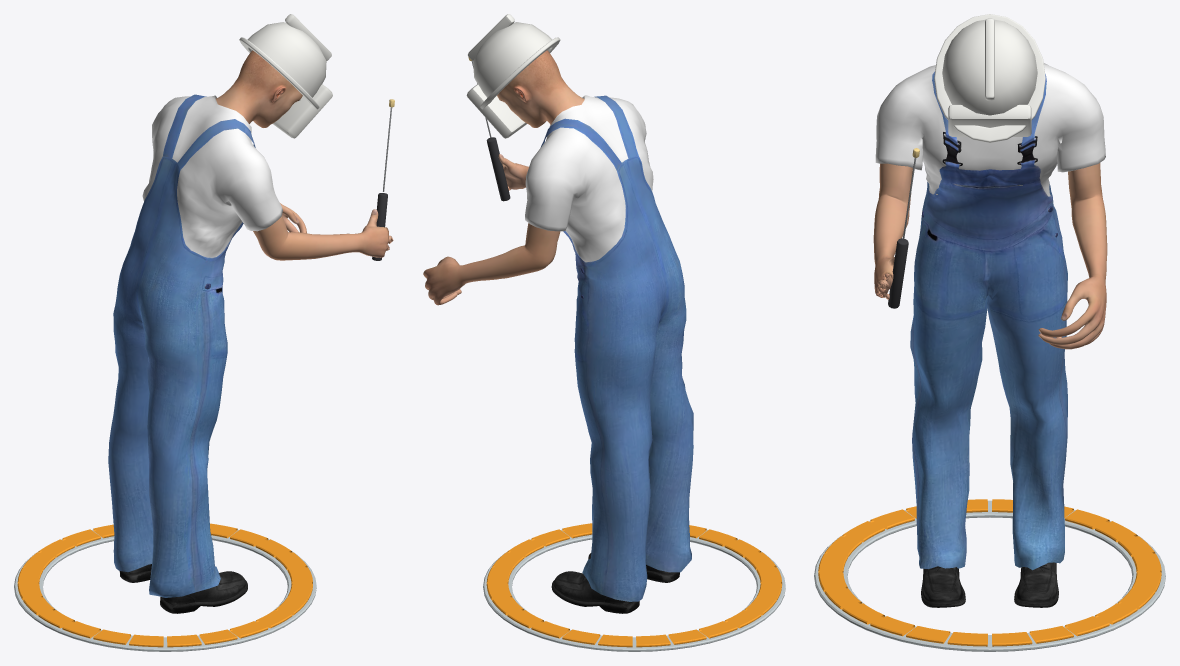
Rendered from MDO-INS-003.glb.
3 views of the same model, side by side, from view 1: azimuth 30°, elevation 25°; view 2: azimuth 150°, elevation 25°; view 3: azimuth 270°, elevation 25° (orthographic). The views are drawn at different scales.
Parts seen in each view (by area): view 1: MDO-INS-003_pessoa_male_worksuit01, MDO-INS-003_pessoa, MDO-INS-003_anel_fundo, MDO-INS-003_capacete, MDO-INS-003_pessoa_shoes04, MDO-INS-003_capacete_mascara, MDO-INS-003_capacete_aba; view 2: MDO-INS-003_pessoa_male_worksuit01, MDO-INS-003_pessoa, MDO-INS-003_anel_fundo, MDO-INS-003_capacete, MDO-INS-003_pessoa_shoes04, MDO-INS-003_capacete_mascara, MDO-INS-003_ferD_porta, MDO-INS-003_capacete_aba; view 3: MDO-INS-003_pessoa_male_worksuit01, MDO-INS-003_pessoa, MDO-INS-003_capacete, MDO-INS-003_anel_fundo, MDO-INS-003_pessoa_shoes04, MDO-INS-003_capacete_aba, MDO-INS-003_capacete_mascara, MDO-INS-003_ferD_porta, MDO-INS-003_capacete_friso, MDO-INS-003_anel_h04, MDO-INS-003_anel_h07, MDO-INS-003_anel_h03 (+7 smaller).
Part boxes in pixels (x1,y1,x2,y2): MDO-INS-003_pessoa_male_worksuit01: [108, 94, 282, 597]; MDO-INS-003_pessoa: [216, 50, 393, 260]; MDO-INS-003_anel_fundo: [14, 529, 316, 651]; MDO-INS-003_capacete: [247, 22, 326, 97]; MDO-INS-003_pessoa_shoes04: [119, 564, 247, 613]; MDO-INS-003_capacete_mascara: [272, 84, 332, 138]; MDO-INS-003_capacete_aba: [239, 37, 319, 109]; MDO-INS-003_pessoa_male_worksuit01: [525, 95, 693, 601]; MDO-INS-003_pessoa: [423, 50, 584, 305]; MDO-INS-003_anel_fundo: [483, 529, 785, 651]; MDO-INS-003_capacete: [473, 22, 552, 97]; MDO-INS-003_pessoa_shoes04: [551, 553, 679, 613]; MDO-INS-003_capacete_mascara: [466, 84, 526, 138]; MDO-INS-003_ferD_porta: [486, 137, 510, 201]; MDO-INS-003_capacete_aba: [480, 37, 560, 109]; MDO-INS-003_pessoa_male_worksuit01: [875, 63, 1105, 570]; MDO-INS-003_pessoa: [873, 163, 1107, 349]; MDO-INS-003_capacete: [942, 19, 1037, 115]; MDO-INS-003_anel_fundo: [814, 500, 1165, 651]; MDO-INS-003_pessoa_shoes04: [921, 562, 1058, 607]; MDO-INS-003_capacete_aba: [934, 14, 1045, 142]; MDO-INS-003_capacete_mascara: [948, 104, 1031, 136]; MDO-INS-003_ferD_porta: [888, 238, 908, 308]; MDO-INS-003_capacete_friso: [985, 18, 994, 100]; MDO-INS-003_anel_h04: [1029, 626, 1073, 643]; MDO-INS-003_anel_h07: [906, 626, 950, 643]; MDO-INS-003_anel_h03: [1065, 616, 1109, 636].
Size of the model in its own units: 1.05 by 1.67 by 0.84.
11 materials, 5 textured.
